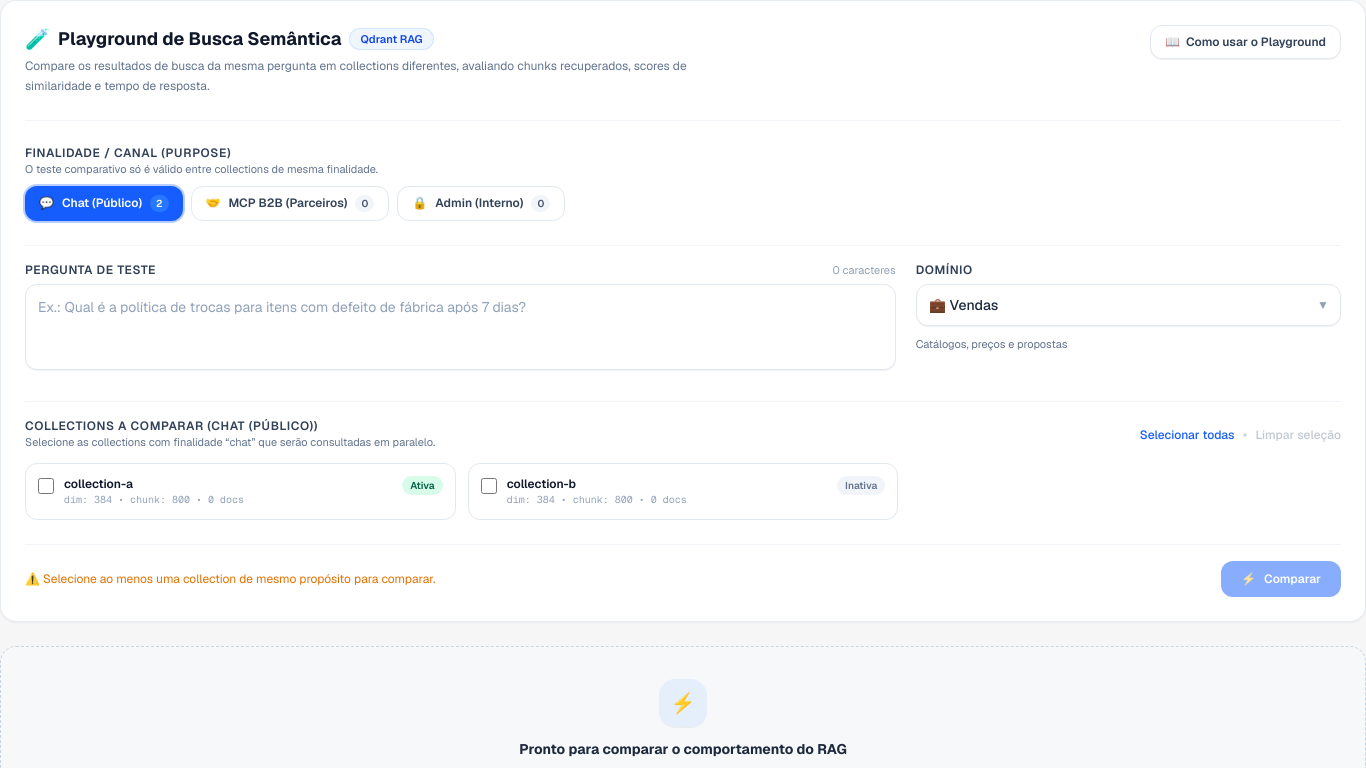
PlaygroundPanel › permite selecionar e desmarcar todas as collections com os botões rápidos
Expected: the checkbox labelled "collection-a" is not checked, [38, 478, 54, 494]
Expected: the checkbox labelled "collection-b" is not checked, [481, 478, 497, 494]
# Clica em 'Selecionar todas'
What coordinates should you click on to do the following:
click the button "Selecionar todas"
I would click on:
 (1187, 435)
Its box is [1140, 427, 1234, 443].
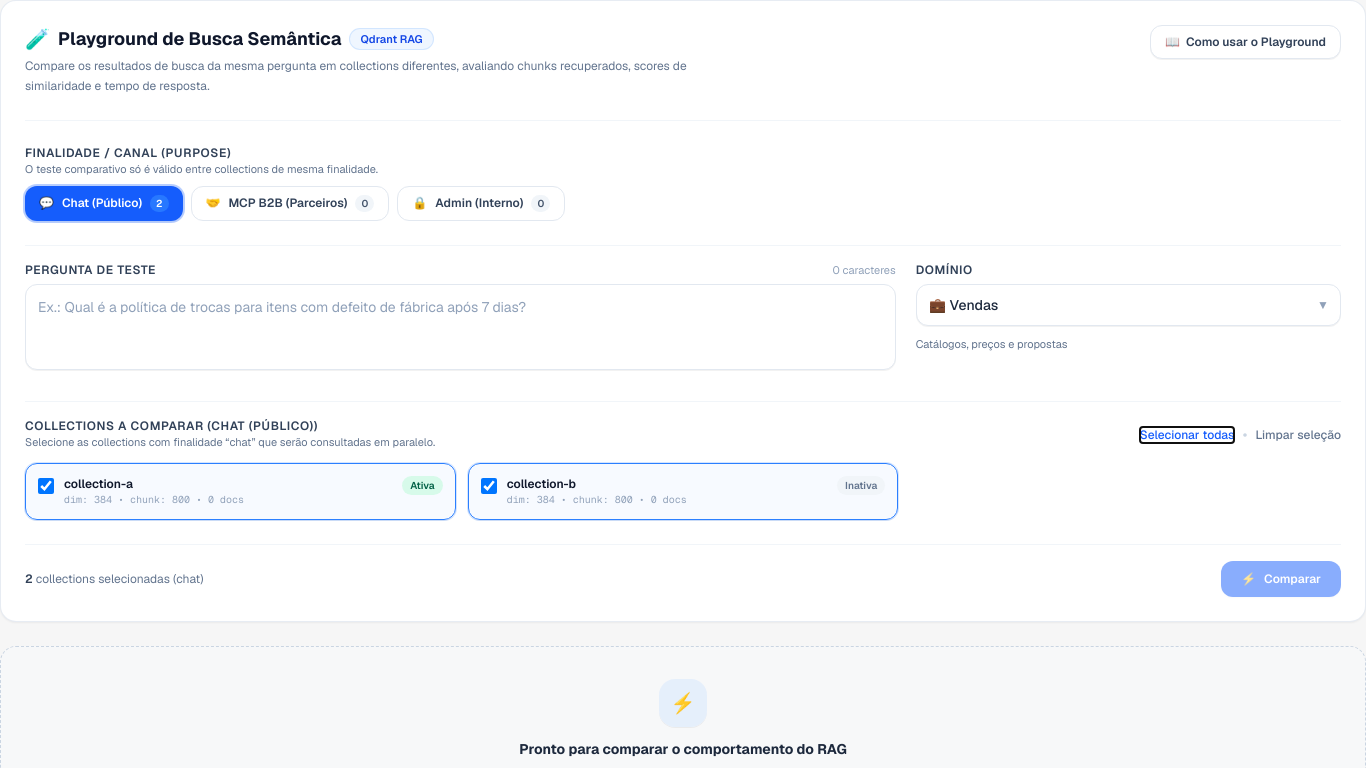
Expected: the checkbox labelled "collection-a" is checked, [38, 478, 54, 494]
Expected: the checkbox labelled "collection-b" is checked, [481, 478, 497, 494]
# Clica em 'Limpar seleção'
What coordinates should you click on to do the following:
click the button "Limpar seleção"
I would click on:
 (1298, 435)
Its box is [1256, 427, 1341, 443].
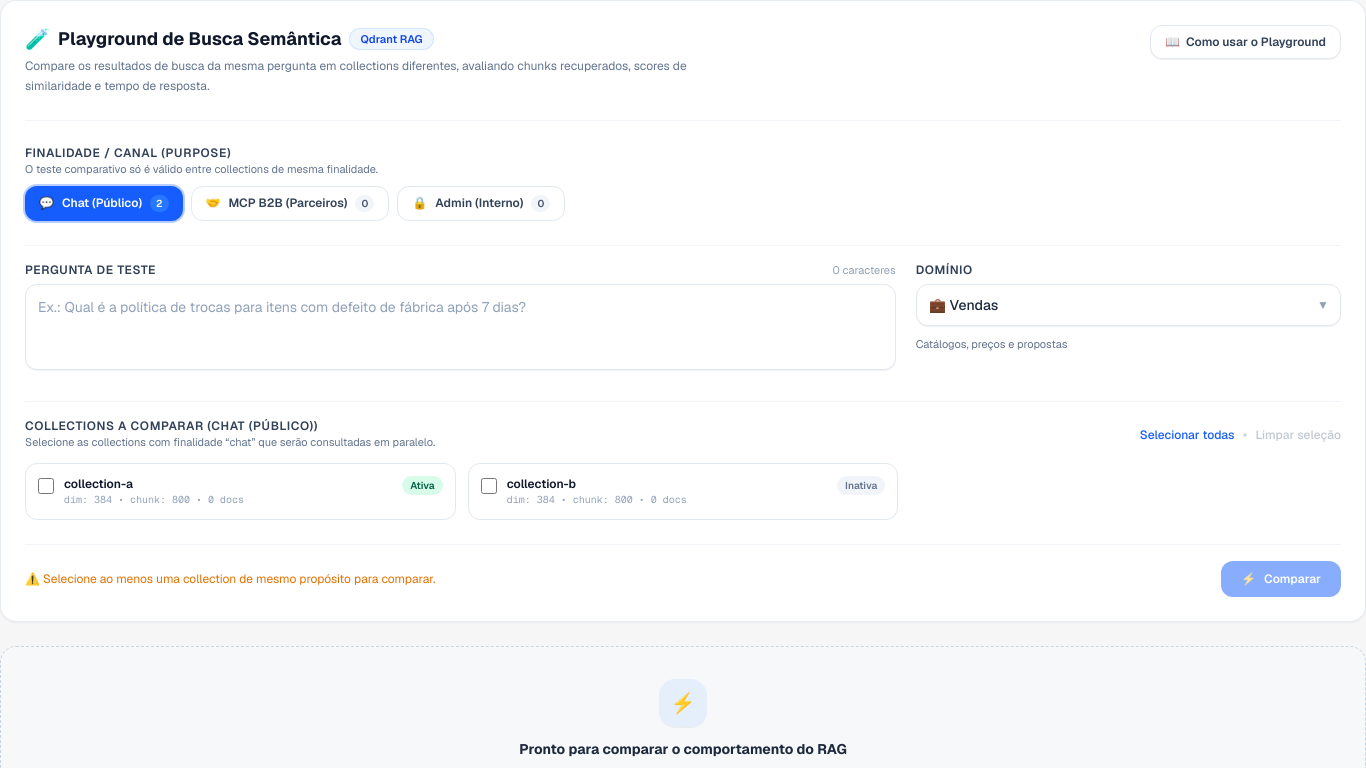
Expected: the checkbox labelled "collection-a" is not checked, [38, 478, 54, 494]
Expected: the checkbox labelled "collection-b" is not checked, [481, 478, 497, 494]
